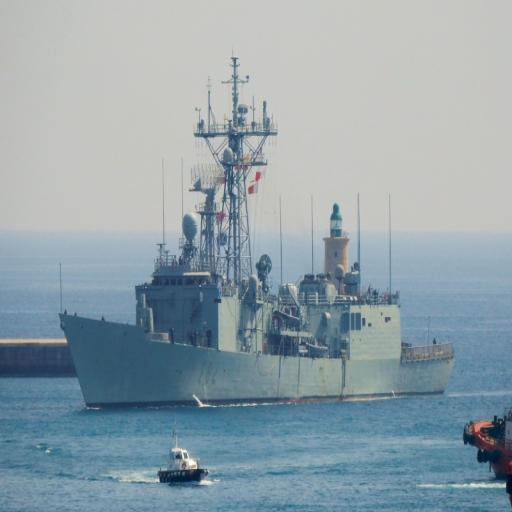Fragata: (53, 49, 460, 415)
